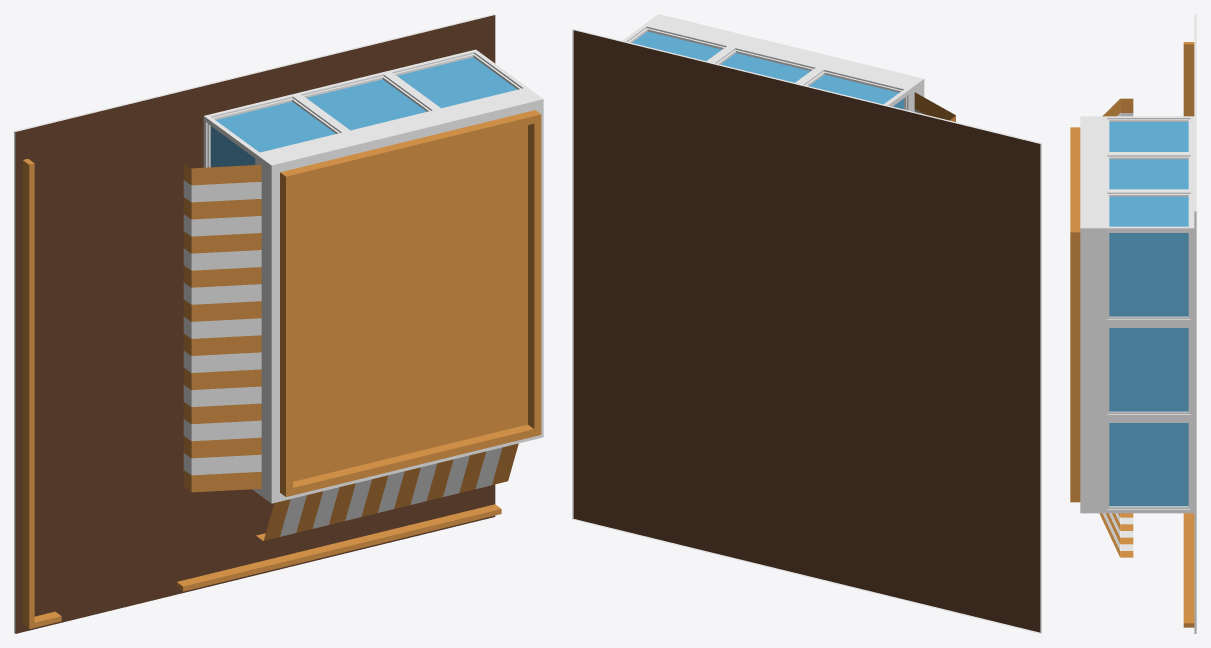
Rendered from Restaurant_01.fbx.
3 renders of one model, left to right at view 1: azimuth 30°, elevation 25°; view 2: azimuth 150°, elevation 25°; view 3: azimuth 270°, elevation 25°, orthographic. The views are drawn at different scales.
Parts seen in each view (by area): view 1: Restaurant_01; view 2: Restaurant_01; view 3: Restaurant_01.
Part boxes in pixels (box(x1,y1,x2,y2)): Restaurant_01: box(14, 14, 543, 633); Restaurant_01: box(572, 14, 1041, 633); Restaurant_01: box(1070, 14, 1196, 633).
Size of the model in its own units: 200 by 200 by 54.29.
